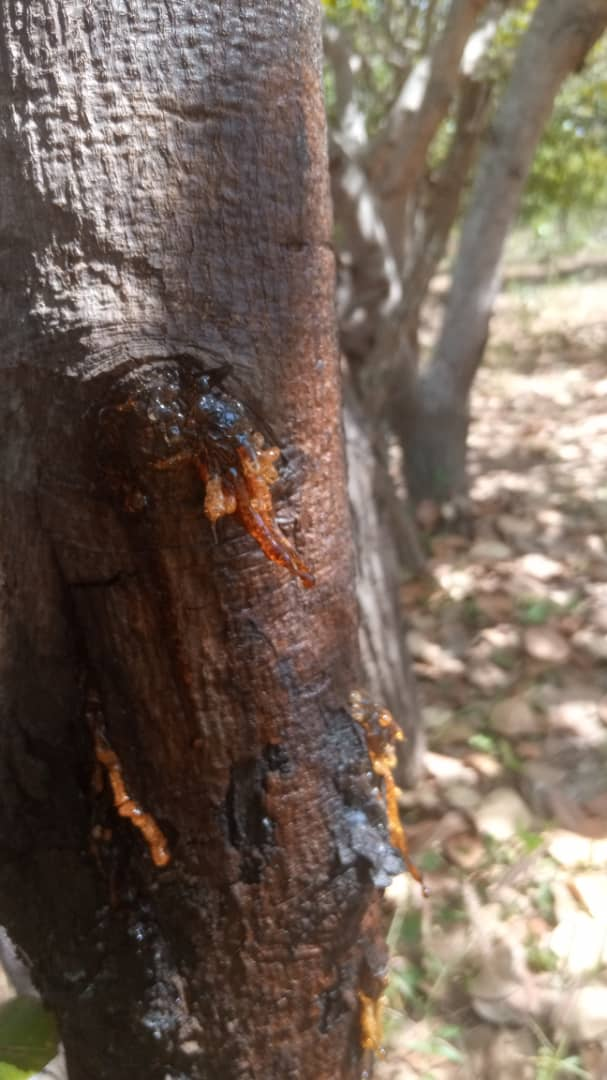Gommose: (255, 686, 417, 1063), (42, 758, 201, 1080), (153, 367, 321, 599)
